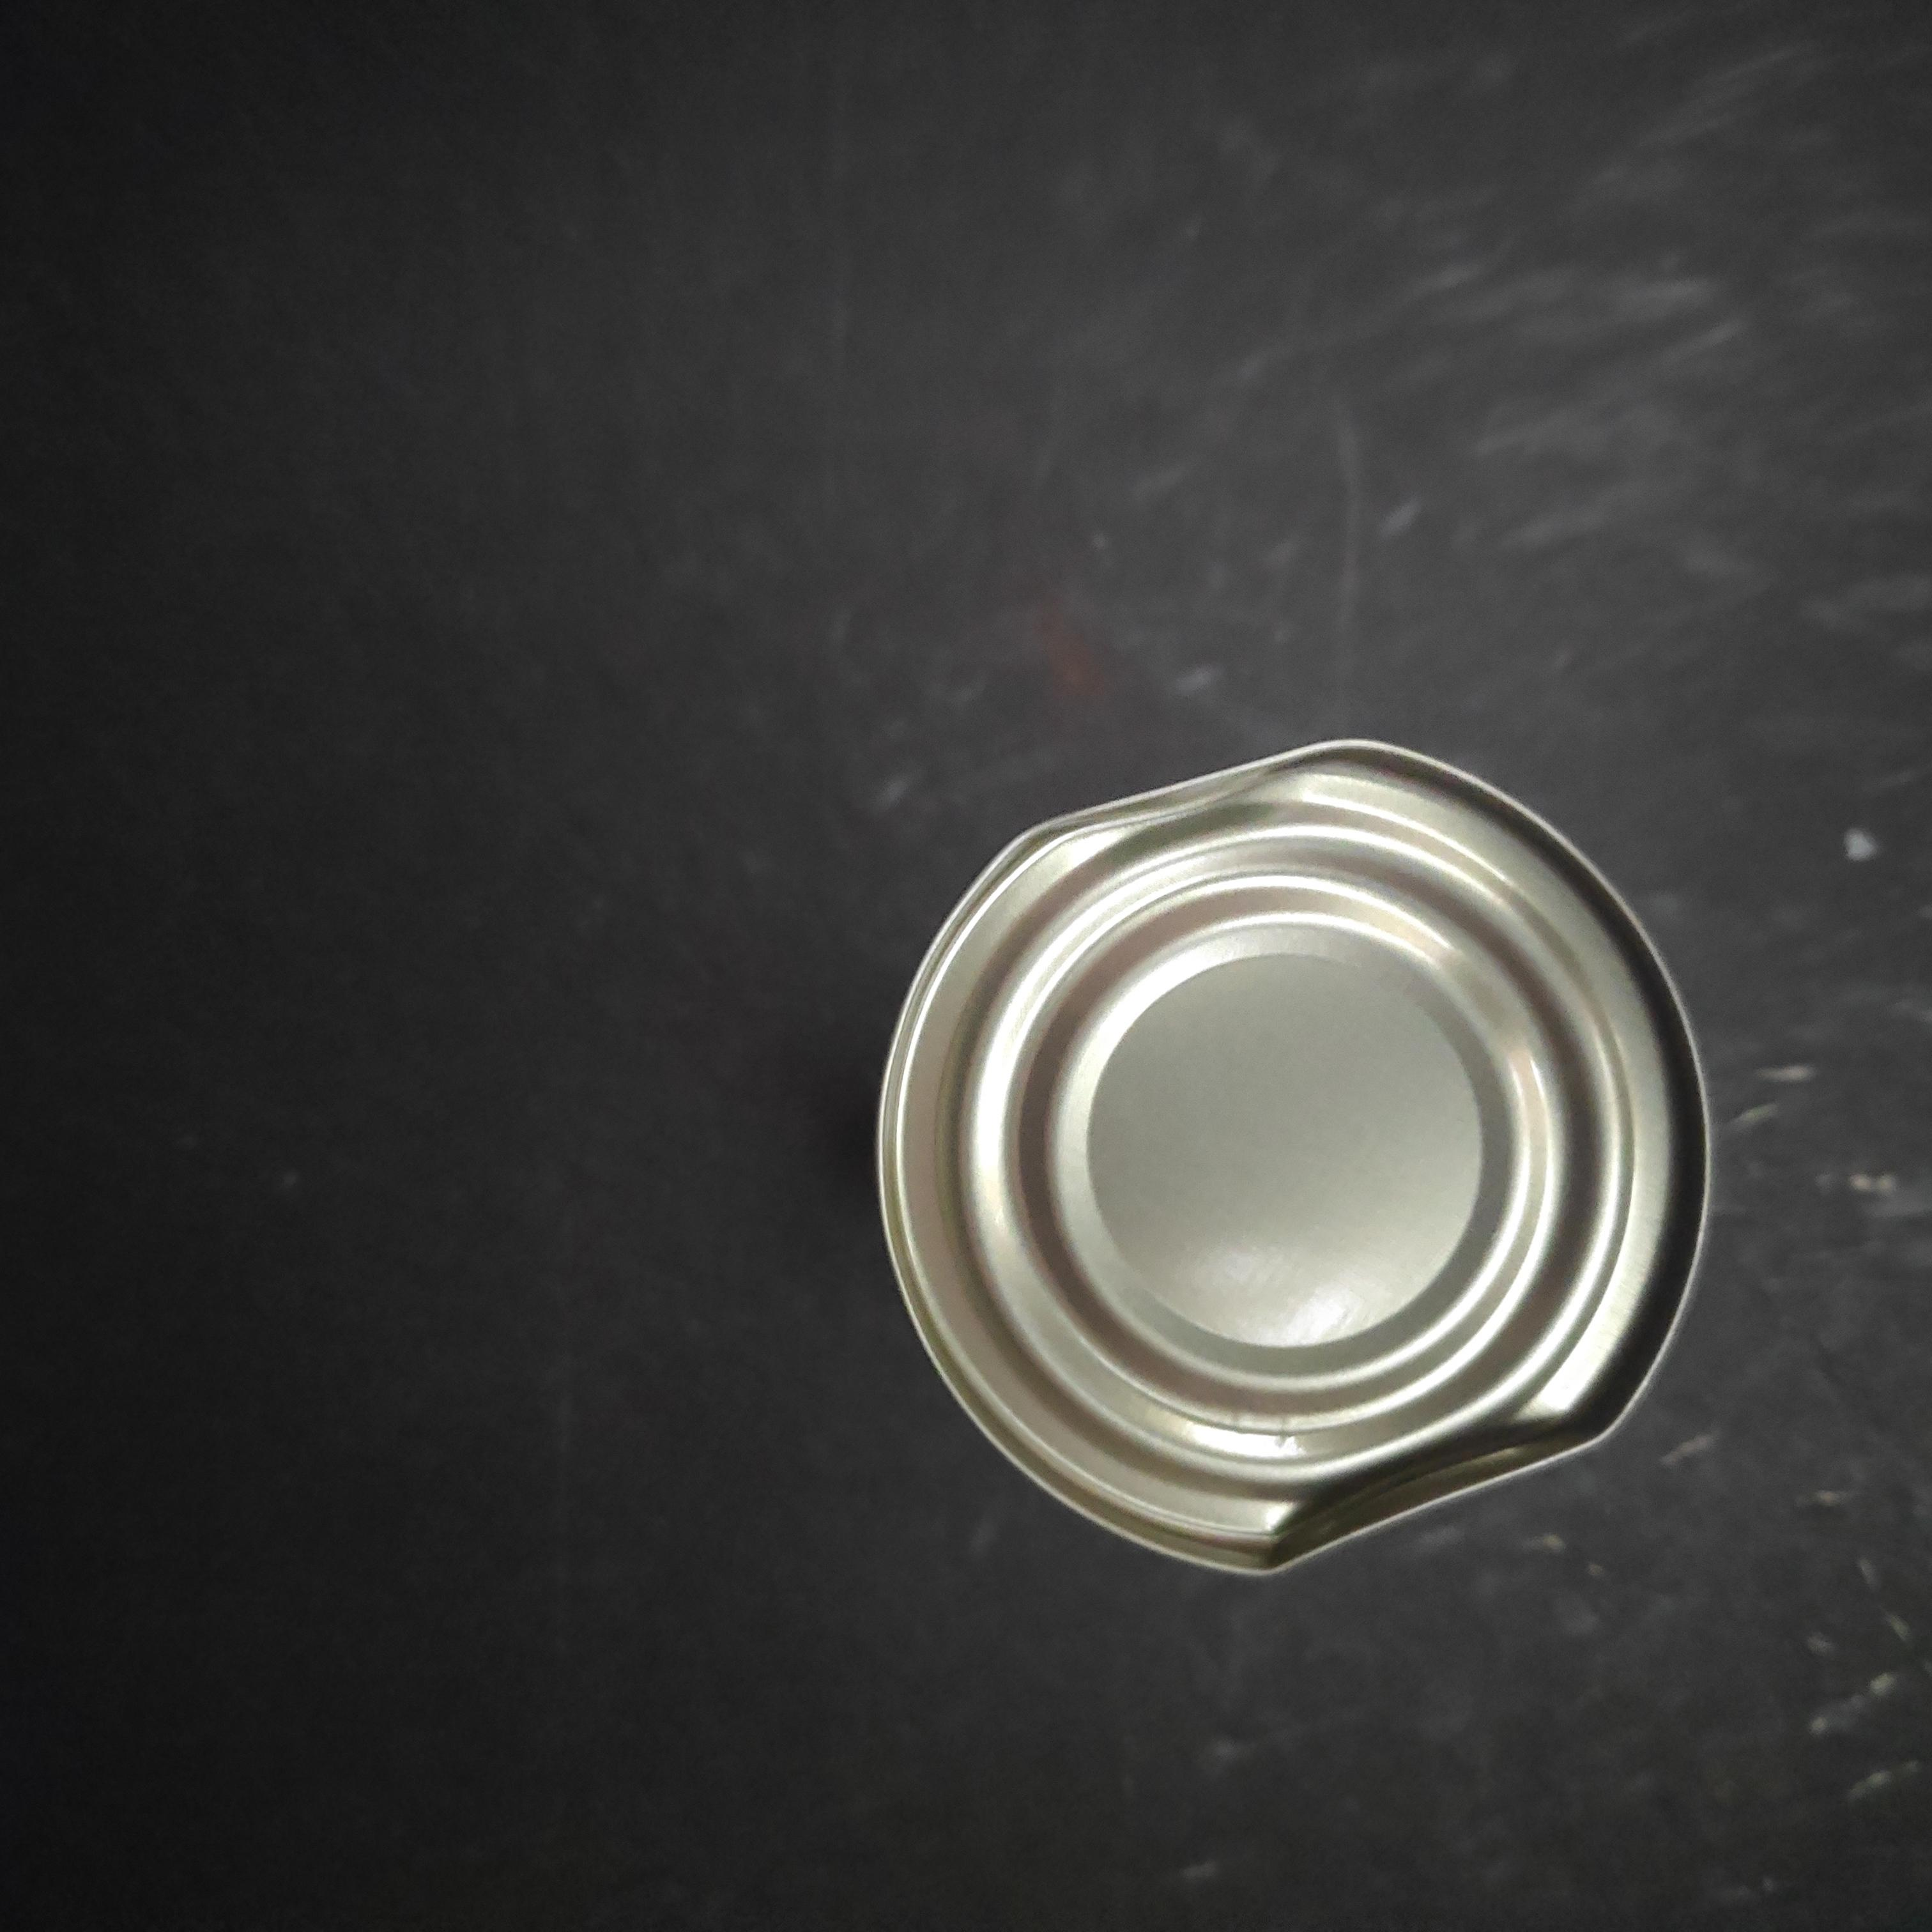Minor Defect: (860, 722, 1725, 1601)
